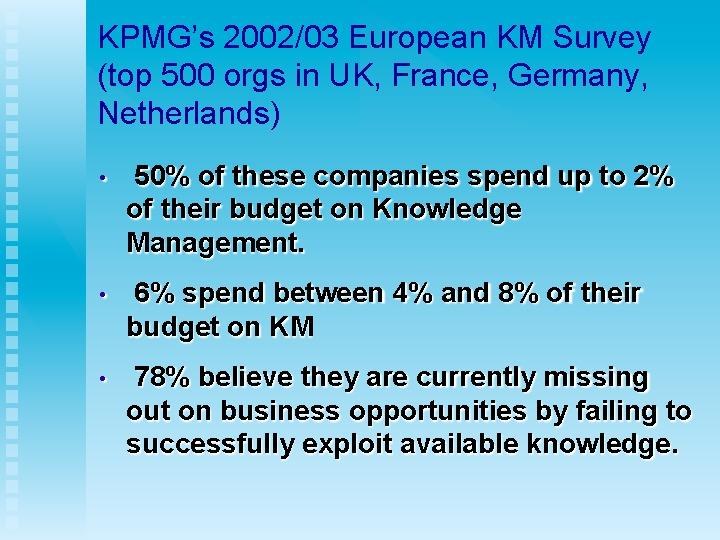paragraph: (92, 154, 712, 494)
title: (93, 16, 681, 133)
